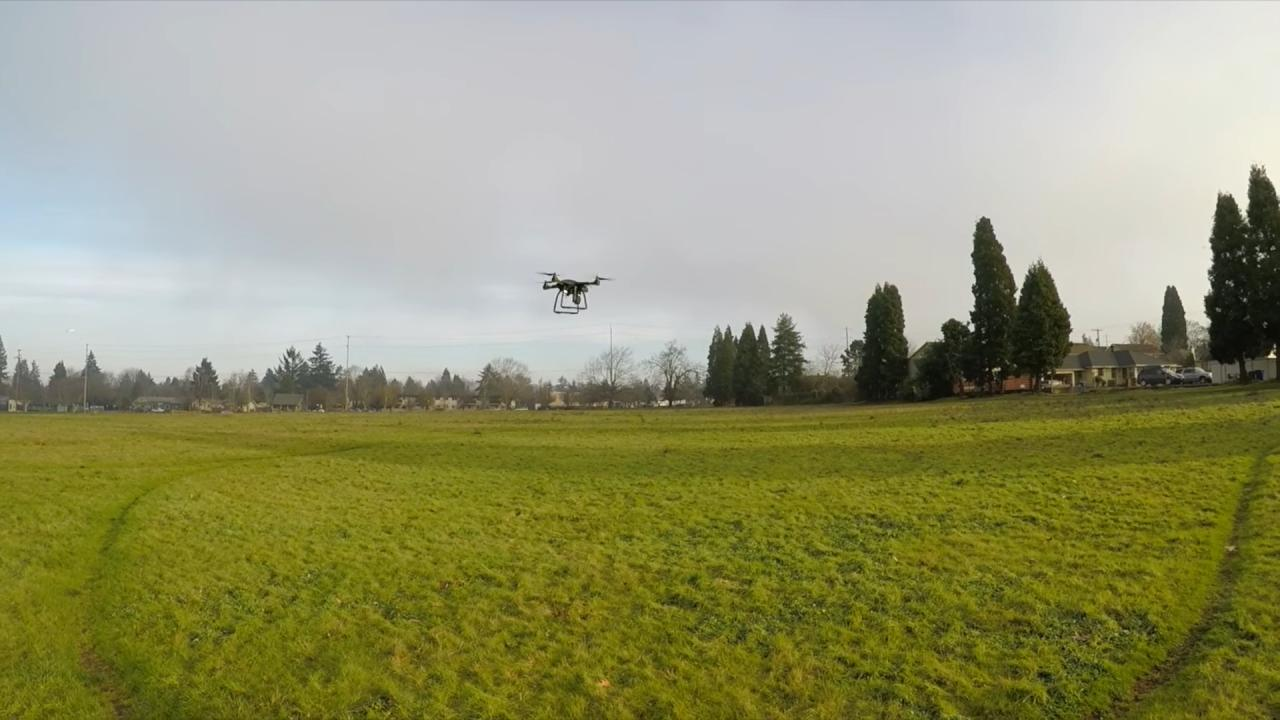Drone: (531, 260, 618, 322)
